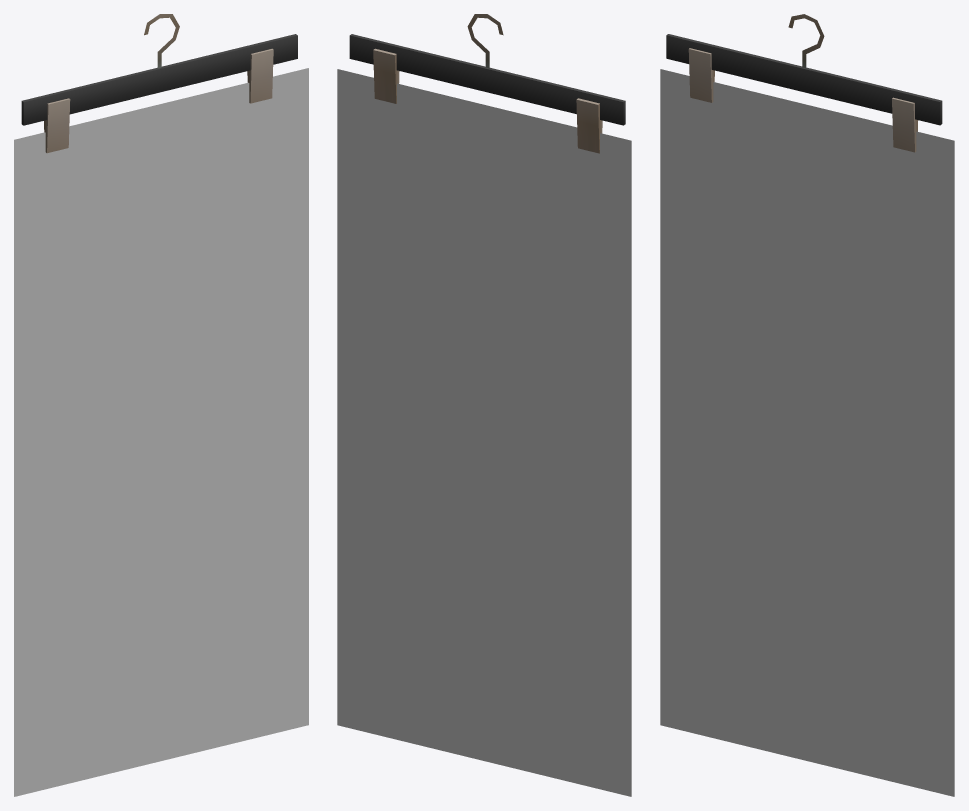
File: Hang_Towel_06.FBX
The picture shows the model from 3 angles, left to right: view 1: azimuth 30°, elevation 25°; view 2: azimuth 150°, elevation 25°; view 3: azimuth 330°, elevation 25°; orthographic projection.
Visible parts, largest first — view 1: Hang_Towel_06; view 2: Hang_Towel_06; view 3: Hang_Towel_06.
Boxes of the visible parts, x1,y1,x2,y2 form: Hang_Towel_06: (14, 14, 308, 796); Hang_Towel_06: (337, 14, 631, 796); Hang_Towel_06: (660, 14, 954, 796).
Size of the model in its own units: 0.4782 by 0.0145 by 1.16.
